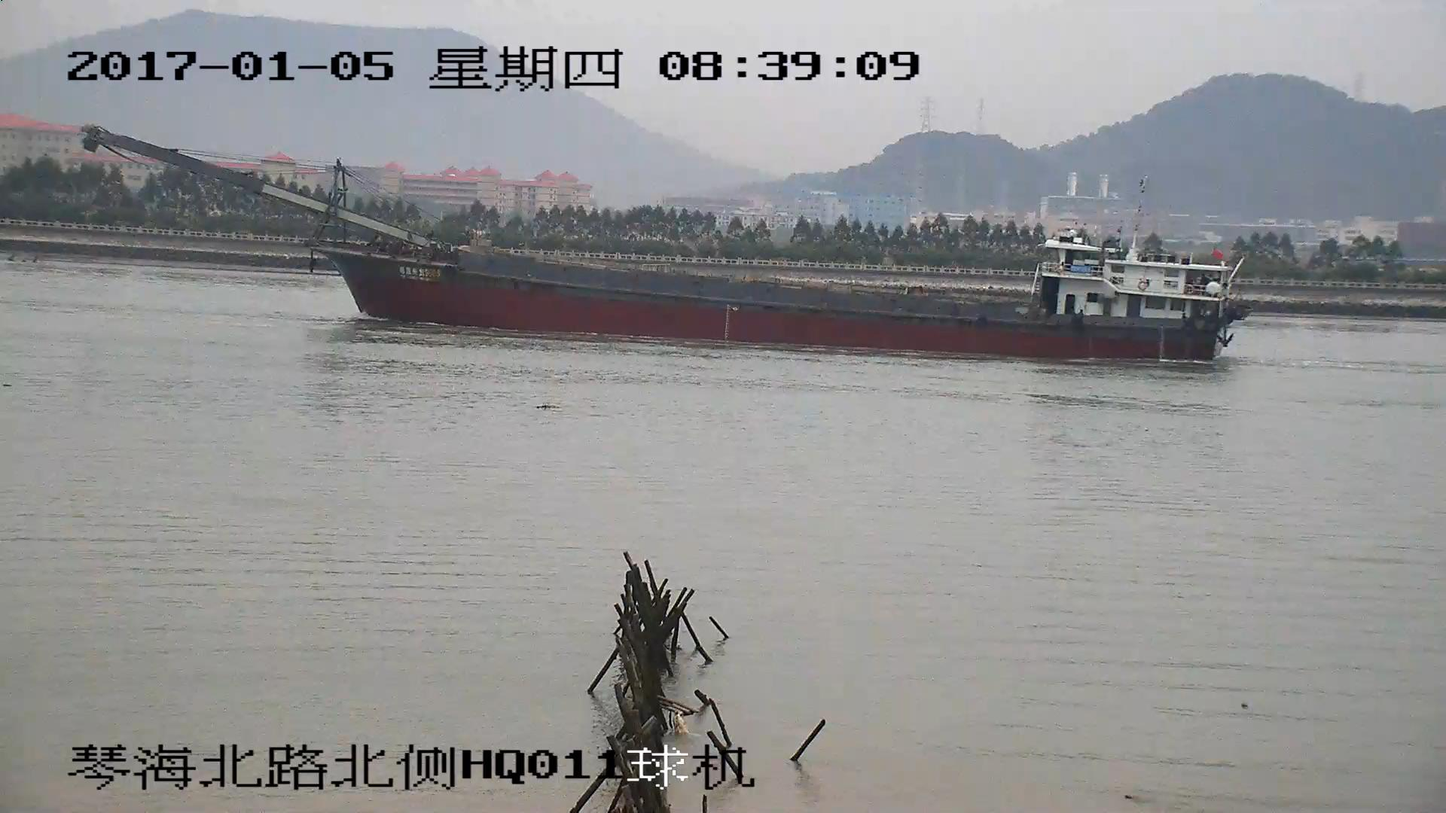bulk cargo carrier: (82, 126, 1243, 358)
